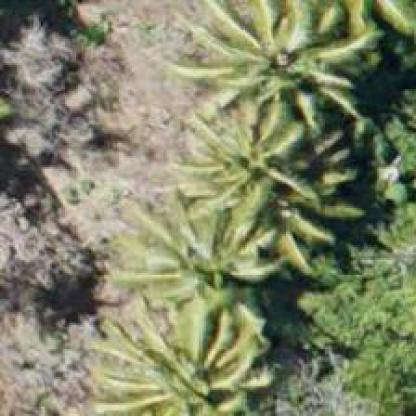coconut tree: (80, 0, 414, 414)
